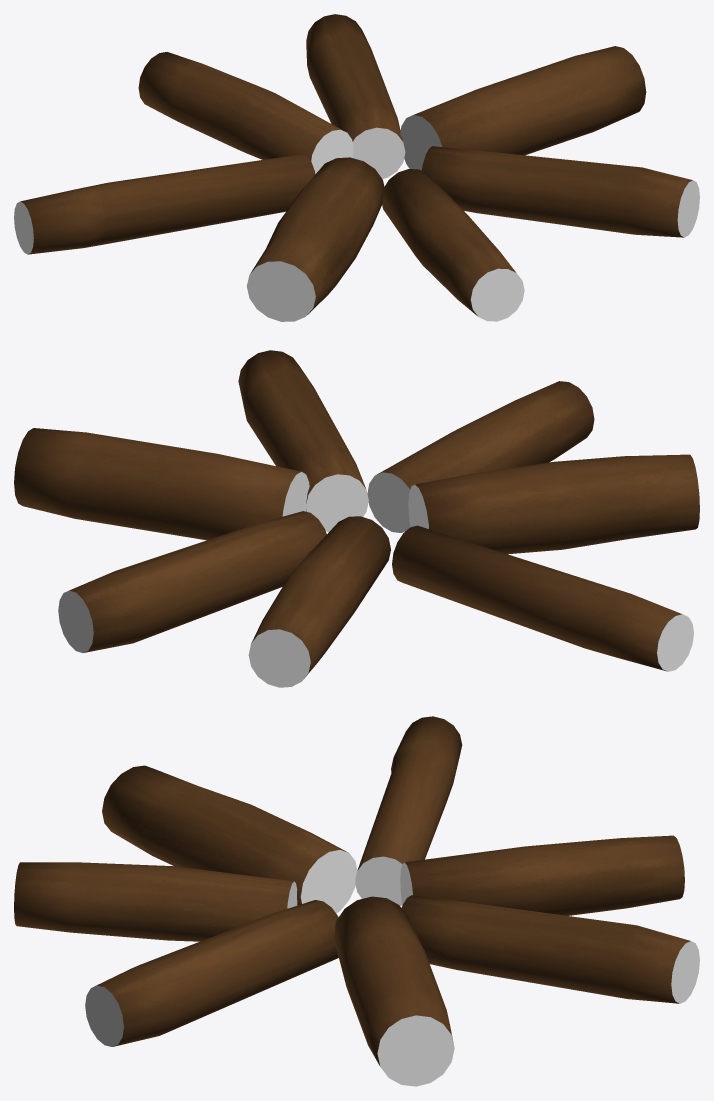
The model's file is Campfire_Star.glb.
The picture shows the model from 3 angles, top to bottom: view 1: azimuth 30°, elevation 25°; view 2: azimuth 150°, elevation 25°; view 3: azimuth 270°, elevation 25°; orthographic projection. The views are drawn at different scales.
Parts seen in each view (by area): view 1: Cylinder.039, Cylinder.038, Cylinder.035, Cylinder.033, Cylinder.034, Cylinder.040, Cylinder.036; view 2: Cylinder.035, Cylinder.033, Cylinder.038, Cylinder.036, Cylinder.040, Cylinder.034, Cylinder.039; view 3: Cylinder.036, Cylinder.033, Cylinder.039, Cylinder.040, Cylinder.034, Cylinder.035, Cylinder.038.
Part boxes in pixels (box(x1,y1,x2,y2)): Cylinder.039: box(421, 146, 699, 237); Cylinder.038: box(14, 154, 315, 254); Cylinder.035: box(400, 46, 646, 170); Cylinder.033: box(246, 157, 384, 321); Cylinder.034: box(138, 52, 353, 173); Cylinder.040: box(382, 169, 524, 321); Cylinder.036: box(306, 14, 405, 178); Cylinder.035: box(14, 428, 309, 540); Cylinder.033: box(408, 454, 699, 554); Cylinder.038: box(392, 525, 693, 671); Cylinder.036: box(58, 511, 326, 652); Cylinder.040: box(367, 381, 594, 532); Cylinder.034: box(248, 516, 390, 687); Cylinder.039: box(238, 350, 368, 531); Cylinder.036: box(401, 895, 699, 1003); Cylinder.033: box(102, 765, 357, 913); Cylinder.039: box(85, 900, 338, 1046); Cylinder.040: box(14, 862, 297, 941); Cylinder.034: box(400, 835, 684, 915); Cylinder.035: box(334, 896, 454, 1086); Cylinder.038: box(355, 716, 462, 905).
Size of the model in its own units: 1.62 by 0.1957 by 1.46.
Materials: 2 (1 with a texture image).
